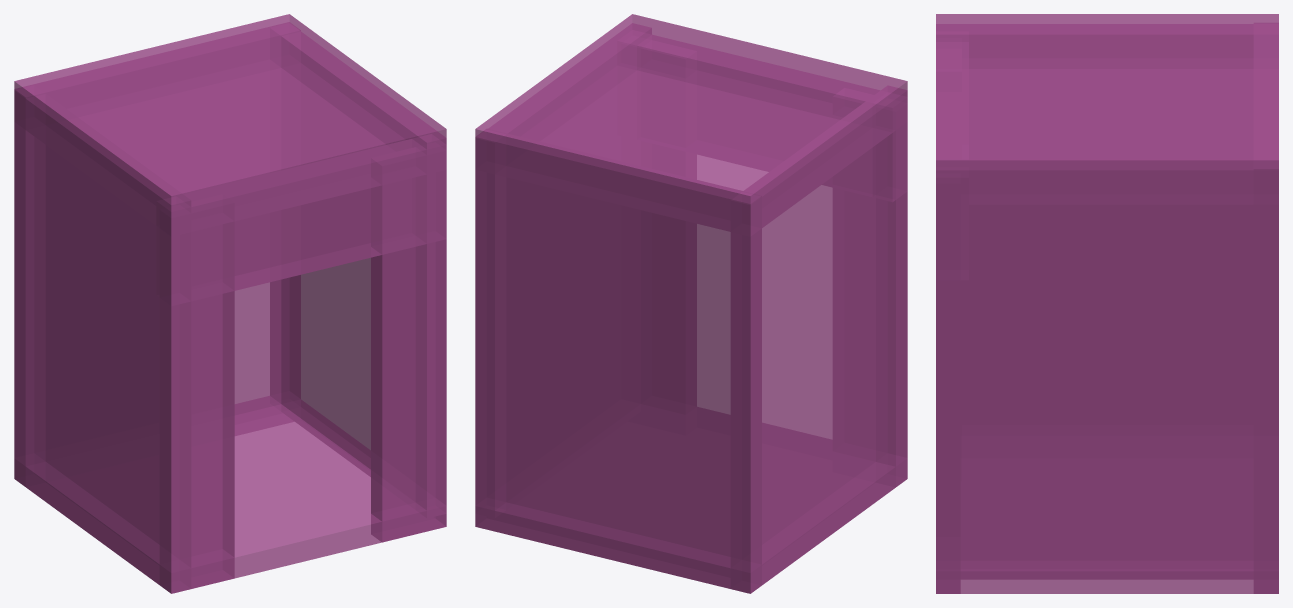
Rendered from SM_Bld_Wall_Elevator_Insert_01_Collision.fbx.
The picture shows the model from 3 angles, left to right: view 1: azimuth 30°, elevation 25°; view 2: azimuth 150°, elevation 25°; view 3: azimuth 270°, elevation 25°; orthographic projection. The views are drawn at different scales.
Parts seen in each view (by area): view 1: SM_Bld_Wall_Elevator_Insert_01_Collision; view 2: SM_Bld_Wall_Elevator_Insert_01_Collision; view 3: SM_Bld_Wall_Elevator_Insert_01_Collision.
Part boxes in pixels (bbox=[...]): SM_Bld_Wall_Elevator_Insert_01_Collision: bbox=[14, 14, 446, 593]; SM_Bld_Wall_Elevator_Insert_01_Collision: bbox=[475, 14, 907, 593]; SM_Bld_Wall_Elevator_Insert_01_Collision: bbox=[936, 14, 1278, 593].
Size of the model in its own units: 238 by 328 by 235.
